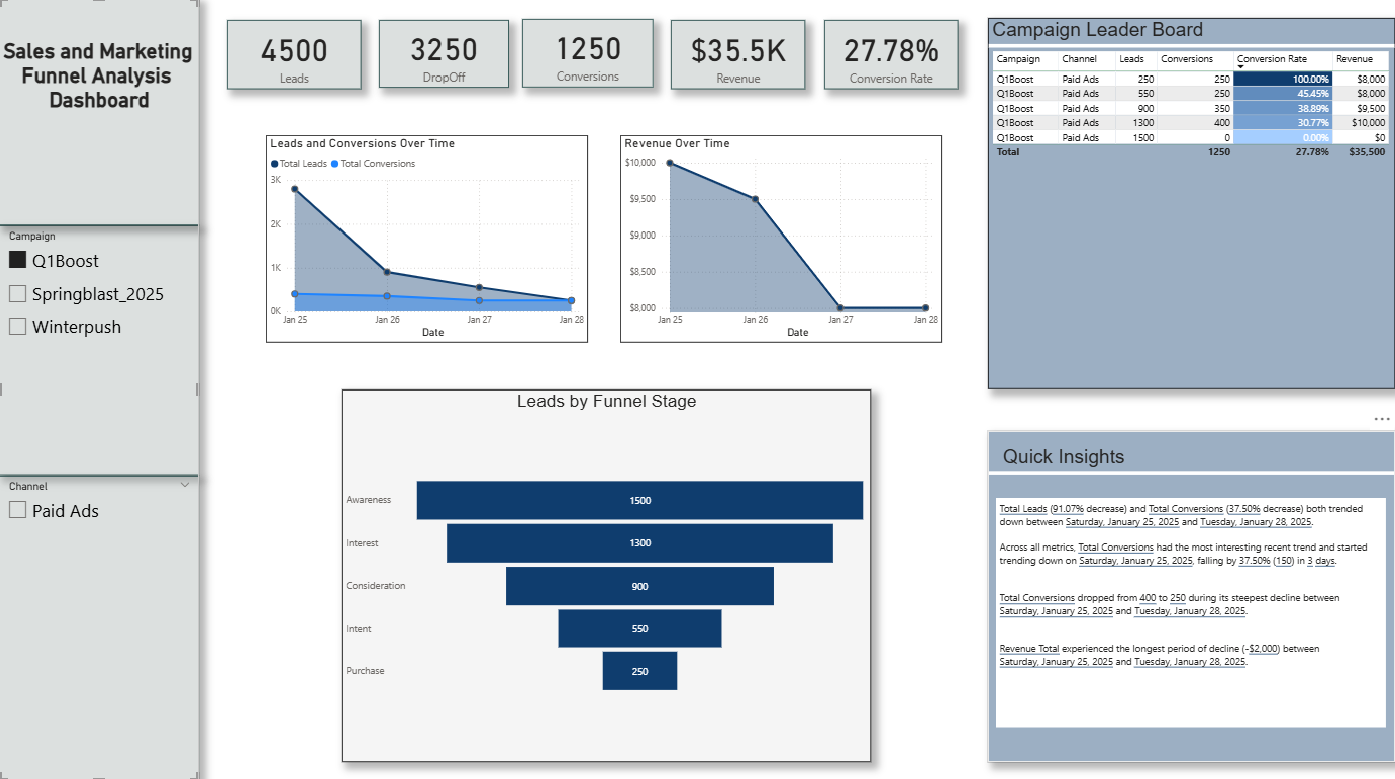

What the dashboard file says about the page in this screenshot:
{"tool":"powerbi","page":{"name":"Sales and Marketing Funnel Analysis","canvas":[1920,1080],"ordinal":0},"visuals":[{"type":"card","fields":{"Values":["Sum(CleanFunnelData.Leads)"]},"box":[314.3,30.9,184,95.4],"z":0},{"type":"card","fields":{"Values":["CleanFunnelData.Total Conversions"]},"box":[720,29.6,180,94],"z":1000},{"type":"card","fields":{"Values":["CleanFunnelData.Revenue T"]},"box":[924.2,30.9,185.4,95.4],"z":2000},{"type":"slicer","fields":{"Values":["CleanFunnelData.Campaign"]},"box":[0,314.3,275.4,345.2],"z":2000,"group":"g1"},{"type":"card","fields":{"Values":["CleanFunnelData.DropOff"]},"box":[522.5,30.9,178.7,92.7],"z":3000},{"type":"card","fields":{"Values":["CleanFunnelData.Conversion Rate"]},"box":[1135.1,30.9,184,95.4],"z":4000},{"type":"tableEx","title":"Campaign Leader Board","fields":{"Values":["CleanFunnelData.Campaign","CleanFunnelData.Leads","Sum(CleanFunnelData.Conversions)","CleanFunnelData.Conversion Rate","CleanFunnelData.Revenue Total"]},"box":[1359.4,28.2,560.1,511.8],"z":5000},{"type":"funnel","title":"Leads by Funnel Stage","fields":{"Category":["CleanFunnelData.Funnel Stage"],"Y":["CleanFunnelData.Leads_YTD"]},"box":[470.1,540,728.1,514.5],"z":6000},{"type":"lineChart","title":"Leads and Conversions Over Time","fields":{"Y":["CleanFunnelData.Total Leads","CleanFunnelData.Total Conversions"],"Category":["DateTable.Date"]},"box":[366.7,189.4,443.3,287.5],"z":7000},{"type":"lineChart","title":"Revenue Over Time","fields":{"Category":["DateTable.Date"],"Y":["CleanFunnelData.Revenue Total"]},"box":[854.3,189.4,443.3,287.5],"z":8000},{"type":"textbox","title":"Quick Insights","box":[1359.4,597.8,560.1,456.7],"z":9000},{"type":"group","id":"g1","title":"Group 1","box":[0,0,275.4,1080],"z":10000},{"type":"textbox","box":[1371.5,690.4,536,315.7],"z":10001},{"type":"slicer","fields":{"Values":["CleanFunnelData.Channel"]},"box":[0,659.6,275.4,420.4],"z":12000,"group":"g1"},{"type":"textbox","box":[0,0,275.4,314.3],"z":13000,"group":"g1"}]}

Visuals, with their boxes on the page's 1920x1080 design canvas (x1, y1, x2, y2). These are canvas units, not pixel positions in the 1395x779 screenshot, which may show the page scaled, cropped or inside an application window:
card - Sum(CleanFunnelData.Leads): [314,31,498,126]
card - CleanFunnelData.Total Conversions: [720,30,900,124]
card - CleanFunnelData.Revenue T: [924,31,1110,126]
slicer - CleanFunnelData.Campaign: [0,314,275,660]
card - CleanFunnelData.DropOff: [522,31,701,124]
card - CleanFunnelData.Conversion Rate: [1135,31,1319,126]
"Campaign Leader Board" tableEx: [1359,28,1920,540]
"Leads by Funnel Stage" funnel: [470,540,1198,1054]
"Leads and Conversions Over Time" lineChart: [367,189,810,477]
"Revenue Over Time" lineChart: [854,189,1298,477]
"Quick Insights" textbox: [1359,598,1920,1054]
"Group 1" group: [0,0,275,1080]
textbox: [1372,690,1908,1006]
slicer - CleanFunnelData.Channel: [0,660,275,1080]
textbox: [0,0,275,314]
